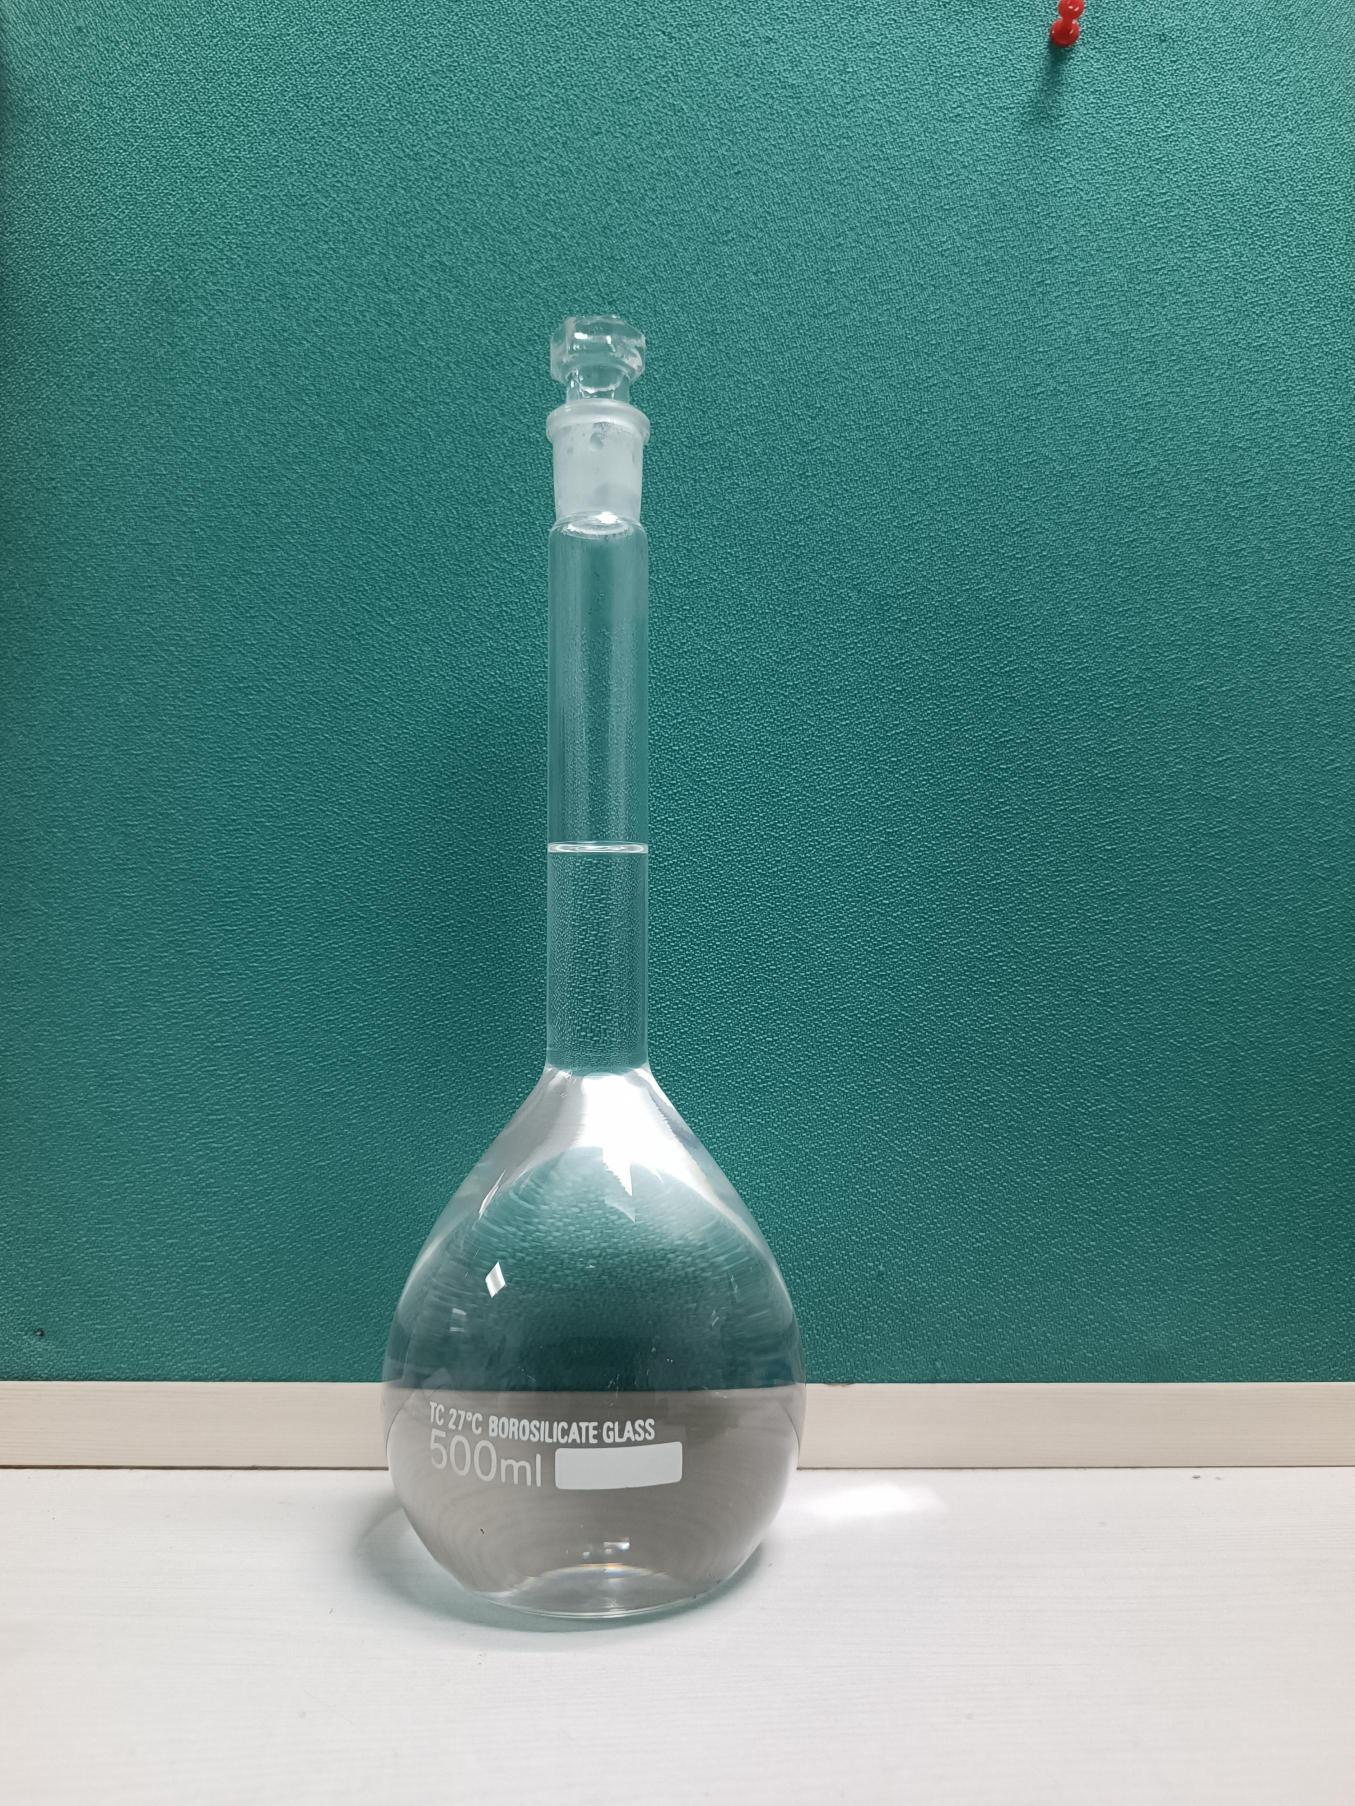Volumetric flask: (362, 317, 808, 1595)
